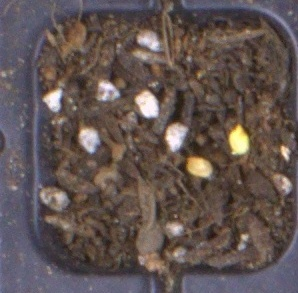chilli seed: (227, 123, 250, 154), (186, 155, 213, 176)
